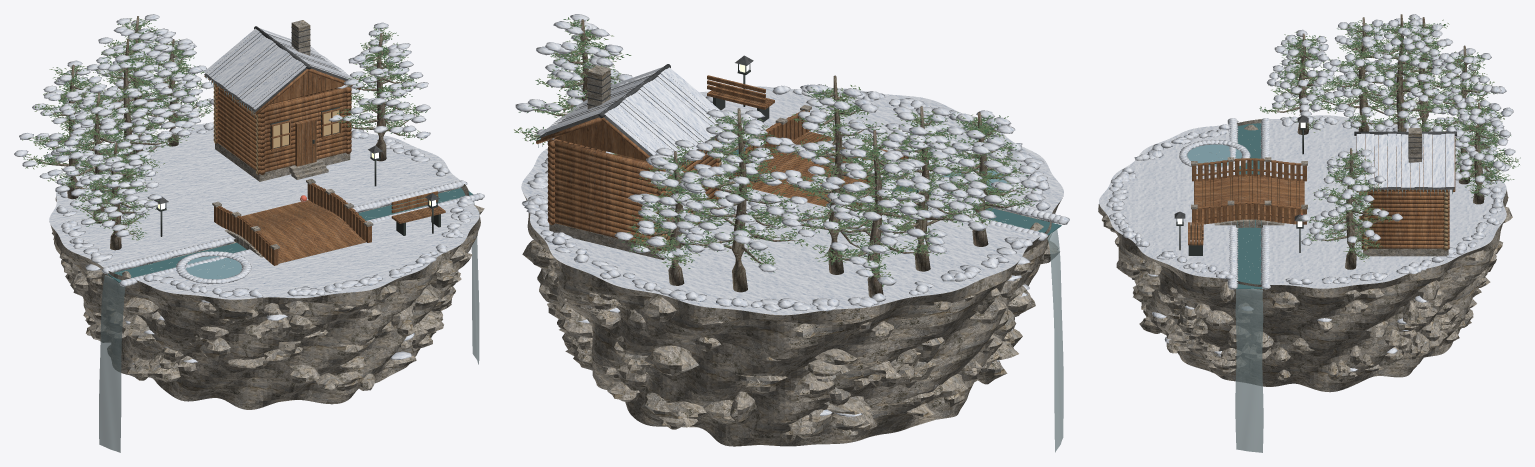
The model's file is snow.glb.
The picture shows the model from 3 angles, left to right: view 1: azimuth 30°, elevation 25°; view 2: azimuth 150°, elevation 25°; view 3: azimuth 270°, elevation 25°; orthographic projection. The views are drawn at different scales.
Parts seen in each view (by area): view 1: snow_Snow_grains, snow_Weathered_mineral_stone, snow_Aged_oiled_timber, snow_Natural_fissured_bark, snow_Foliage_2, snow_Foliage_1, snow_Foliage_0, snow_waterfall_Flowing_silver_water_-1, snow_Weathered_slate, snow_Deep_stream, snow_Timber_fine_grain, snow_Glacial_ice (+3 smaller); view 2: snow_Snow_grains, snow_Weathered_mineral_stone, snow_Aged_oiled_timber, snow_Natural_fissured_bark, snow_Foliage_1, snow_Foliage_2, snow_Foliage_0, snow_Weathered_slate, snow_waterfall_Flowing_silver_water_-1, snow_Deep_stream, snow_Timber_fine_grain; view 3: snow_Snow_grains, snow_Weathered_mineral_stone, snow_Aged_oiled_timber, snow_Natural_fissured_bark, snow_Foliage_2, snow_Foliage_1, snow_Foliage_0, snow_waterfall_Flowing_silver_water_1, snow_Deep_stream, snow_Weathered_slate, snow_Glacial_ice, snow_Timber_fine_grain (+1 smaller).
Boxes of the visible parts, x1,y1,x2,y2 form: snow_Snow_grains: [14, 14, 484, 366]; snow_Weathered_mineral_stone: [50, 20, 484, 409]; snow_Aged_oiled_timber: [204, 69, 445, 265]; snow_Natural_fissured_bark: [25, 16, 418, 250]; snow_Foliage_2: [22, 19, 424, 240]; snow_Foliage_1: [23, 19, 422, 240]; snow_Foliage_0: [23, 18, 427, 238]; snow_waterfall_Flowing_silver_water_-1: [99, 275, 125, 452]; snow_Weathered_slate: [154, 26, 439, 204]; snow_Deep_stream: [108, 188, 472, 282]; snow_Timber_fine_grain: [243, 72, 441, 263]; snow_Glacial_ice: [186, 76, 359, 279]; snow_Snow_grains: [515, 14, 1069, 416]; snow_Weathered_mineral_stone: [522, 65, 1062, 446]; snow_Aged_oiled_timber: [536, 75, 927, 250]; snow_Natural_fissured_bark: [520, 19, 1031, 297]; snow_Foliage_1: [514, 17, 1029, 286]; snow_Foliage_2: [514, 21, 1035, 283]; snow_Foliage_0: [518, 19, 1036, 278]; snow_Weathered_slate: [536, 55, 753, 162]; snow_waterfall_Flowing_silver_water_-1: [1047, 229, 1063, 452]; snow_Deep_stream: [721, 142, 1061, 235]; snow_Timber_fine_grain: [711, 88, 888, 204]; snow_Snow_grains: [1099, 14, 1515, 371]; snow_Weathered_mineral_stone: [1098, 119, 1512, 392]; snow_Aged_oiled_timber: [1188, 136, 1455, 250]; snow_Natural_fissured_bark: [1262, 14, 1515, 269]; snow_Foliage_2: [1260, 17, 1518, 261]; snow_Foliage_1: [1260, 18, 1519, 259]; snow_Foliage_0: [1259, 18, 1520, 259]; snow_waterfall_Flowing_silver_water_1: [1235, 288, 1263, 452]; snow_Deep_stream: [1236, 123, 1262, 288]; snow_Weathered_slate: [1174, 115, 1456, 221]; snow_Glacial_ice: [1187, 140, 1452, 197]; snow_Timber_fine_grain: [1191, 136, 1445, 241].
Size of the model in its own units: 13.23 by 10.9 by 13.38.
Materials: 19 (5 with a texture image).
